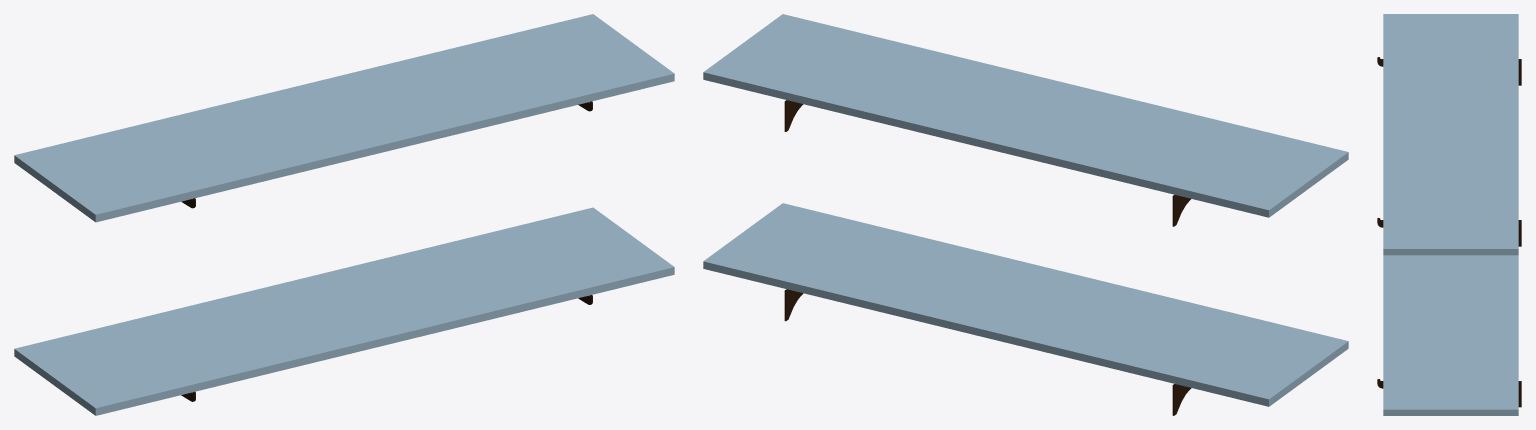
Rendered from sweethome3d-contributions-shelving.glb.
3 renders of one model, left to right at view 1: azimuth 30°, elevation 25°; view 2: azimuth 150°, elevation 25°; view 3: azimuth 270°, elevation 25°, orthographic. The views are drawn at different scales.
Visible parts, largest first — view 1: Shelving_2, Shelving_1; view 2: Shelving_2, Shelving_1; view 3: Shelving_2, Shelving_1, Shelving_10, Shelving_11, Shelving_12.
Boxes of the visible parts, x1=… form: Shelving_2: x1=14, y1=14, x2=674, y2=222; Shelving_1: x1=14, y1=207, x2=674, y2=415; Shelving_2: x1=703, y1=14, x2=1348, y2=217; Shelving_1: x1=703, y1=203, x2=1348, y2=406; Shelving_2: x1=1383, y1=14, x2=1518, y2=255; Shelving_1: x1=1383, y1=255, x2=1518, y2=415; Shelving_10: x1=1377, y1=57, x2=1521, y2=85; Shelving_11: x1=1377, y1=218, x2=1521, y2=246; Shelving_12: x1=1377, y1=379, x2=1521, y2=407.
Bounding box in the file's own units: 119 × 45.64 × 30.89.
